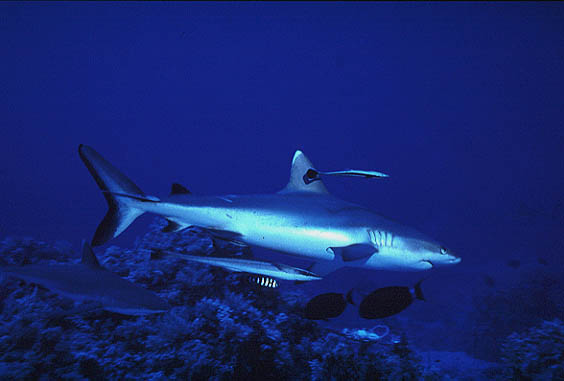Carcharhinus_amblyrhynchos: (64, 134, 471, 291)
